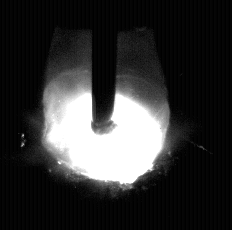arame: (93, 0, 115, 133)
poca: (41, 0, 167, 230)
